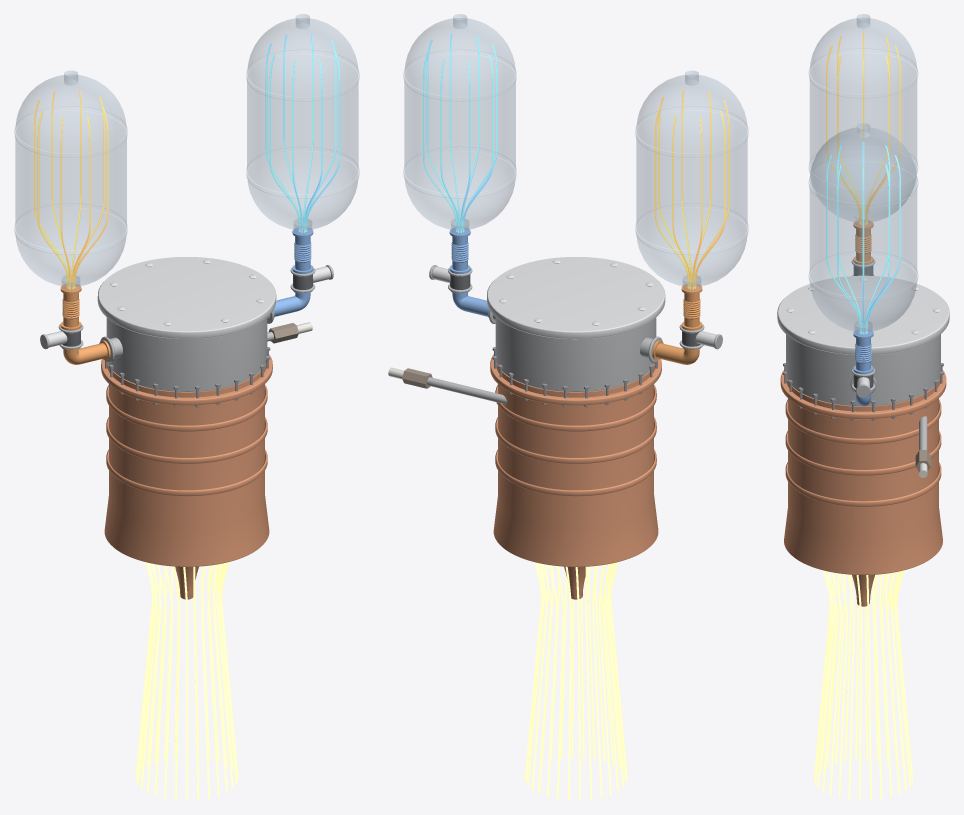
File: rotating-detonation_d.glb
The picture shows the model from 3 angles, left to right: view 1: azimuth 30°, elevation 25°; view 2: azimuth 150°, elevation 25°; view 3: azimuth 270°, elevation 25°; orthographic projection. The views are drawn at different scales.
Parts seen in each view (by area): view 1: RD_OuterBody, RD_TankOxidizer, RD_TankFuel, RD_ThrustPlate, RD_FLOW_HotGas, RD_InjectorHead, RD_FLOW_Fuel, RD_FLOW_Oxidizer, RD_InjectorRing, RD_FeedLineFuel, RD_FeedLineOxidizer, RD_InletLineFuel (+4 smaller); view 2: RD_OuterBody, RD_TankOxidizer, RD_TankFuel, RD_FLOW_HotGas, RD_ThrustPlate, RD_InjectorHead, RD_FLOW_Oxidizer, RD_FLOW_Fuel, RD_Igniter, RD_InjectorRing, RD_FeedLineFuel, RD_FeedLineOxidizer (+4 smaller); view 3: RD_OuterBody, RD_TankOxidizer, RD_TankFuel, RD_FLOW_HotGas, RD_ThrustPlate, RD_InjectorHead, RD_FLOW_Oxidizer, RD_FLOW_Fuel, RD_InjectorRing, RD_FeedLineOxidizer, RD_FeedLineFuel, RD_Bolts (+3 smaller).
Boxes of the visible parts, x1,y1,x2,y2 form: RD_OuterBody: (101, 354, 272, 566); RD_TankOxidizer: (246, 14, 359, 234); RD_TankFuel: (14, 71, 127, 290); RD_ThrustPlate: (97, 257, 276, 339); RD_FLOW_HotGas: (135, 562, 238, 800); RD_InjectorHead: (100, 310, 274, 391); RD_FLOW_Fuel: (33, 90, 108, 289); RD_FLOW_Oxidizer: (265, 33, 340, 232); RD_InjectorRing: (107, 363, 266, 397); RD_FeedLineFuel: (60, 284, 81, 330); RD_FeedLineOxidizer: (292, 227, 313, 273); RD_InletLineFuel: (61, 340, 110, 364); RD_OuterBody: (490, 354, 661, 566); RD_TankOxidizer: (403, 14, 516, 234); RD_TankFuel: (635, 71, 748, 290); RD_FLOW_HotGas: (524, 562, 627, 800); RD_ThrustPlate: (487, 257, 665, 339); RD_InjectorHead: (488, 310, 662, 392); RD_FLOW_Oxidizer: (422, 33, 497, 232); RD_FLOW_Fuel: (654, 90, 729, 289); RD_Igniter: (388, 367, 507, 404); RD_InjectorRing: (496, 363, 655, 397); RD_FeedLineFuel: (681, 284, 702, 330); RD_FeedLineOxidizer: (449, 227, 470, 273); RD_OuterBody: (780, 370, 946, 574); RD_TankOxidizer: (809, 123, 917, 336); RD_TankFuel: (809, 14, 917, 222); RD_FLOW_HotGas: (814, 570, 913, 800); RD_ThrustPlate: (777, 275, 949, 354); RD_InjectorHead: (786, 334, 940, 406); RD_FLOW_Oxidizer: (826, 141, 900, 334); RD_FLOW_Fuel: (826, 32, 900, 224); RD_InjectorRing: (786, 378, 940, 411); RD_FeedLineOxidizer: (853, 329, 873, 374); RD_FeedLineFuel: (853, 220, 873, 264); RD_Bolts: (783, 363, 943, 421).
Bounding box in the file's own units: 0.7231 × 1.54 × 0.3387.
